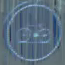bike lane: (5, 5, 58, 55)
